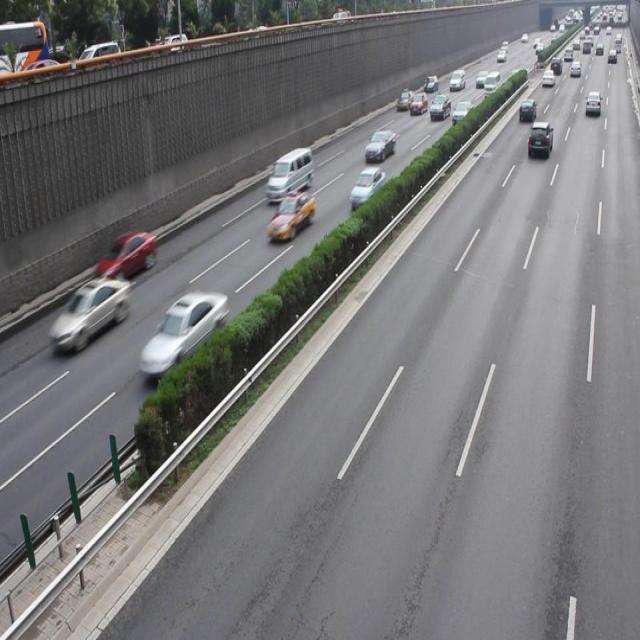car: (139, 288, 228, 372), (49, 274, 132, 352), (96, 228, 158, 284), (267, 187, 314, 242), (350, 166, 386, 209), (364, 128, 394, 162)
truck: (266, 146, 314, 198)
